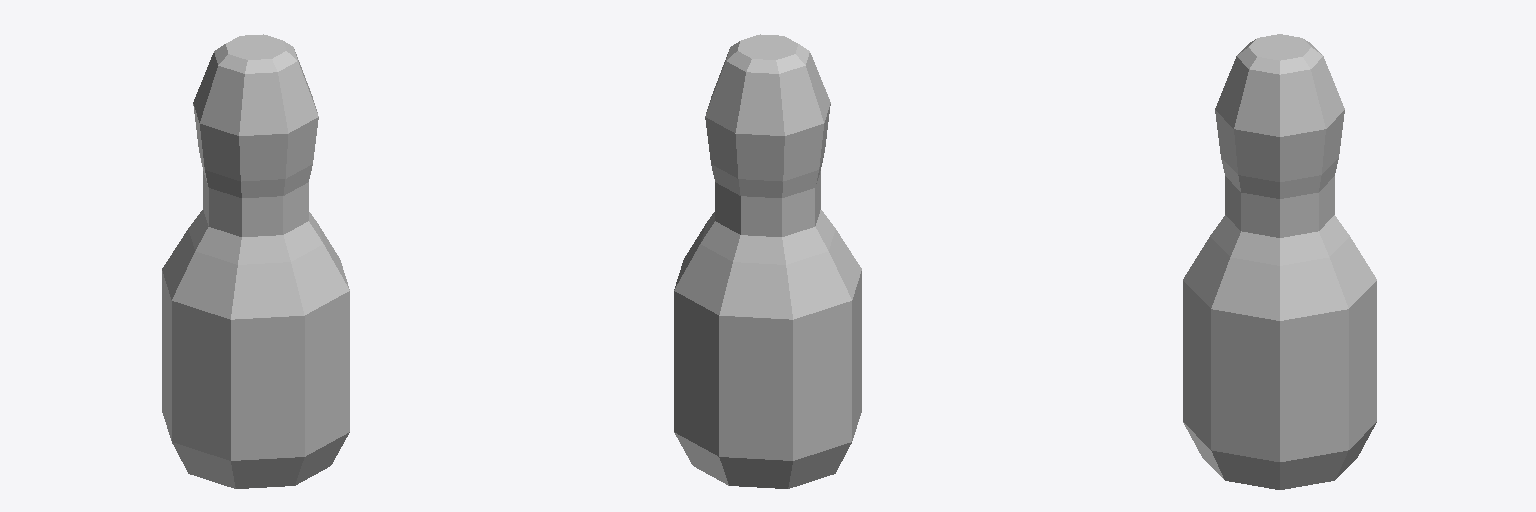
Rendered from bowling.obj.
3 renders of one model, left to right at view 1: azimuth 30°, elevation 25°; view 2: azimuth 150°, elevation 25°; view 3: azimuth 270°, elevation 25°, orthographic.
Parts seen in each view (by area): view 1: Cylinder; view 2: Cylinder; view 3: Cylinder.
Boxes of the visible parts, <box> form: Cylinder: <box>162,34,349,488</box>; Cylinder: <box>674,34,861,488</box>; Cylinder: <box>1183,34,1376,489</box>.
Bounding box in the file's own units: 1.66 × 3.91 × 1.66.